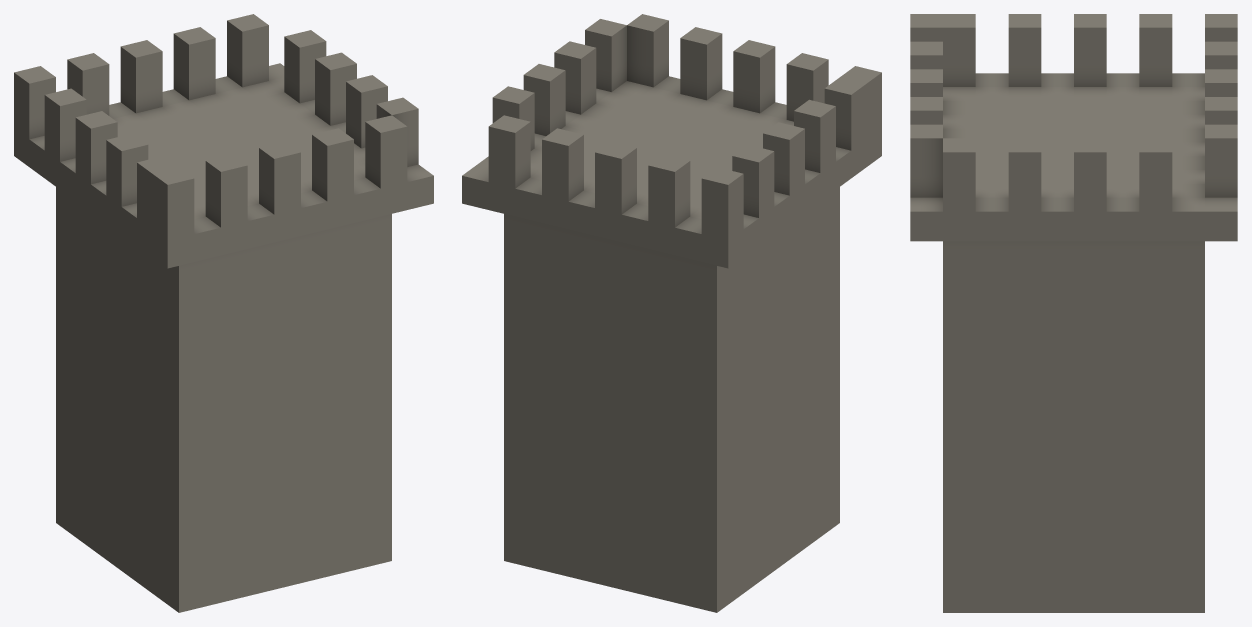
File: c_tower2.glb
3 views of the same model, side by side, from view 1: azimuth 30°, elevation 25°; view 2: azimuth 150°, elevation 25°; view 3: azimuth 270°, elevation 25° (orthographic). The views are drawn at different scales.
Parts seen in each view (by area): view 1: c_tower2_body; view 2: c_tower2_body; view 3: c_tower2_body.
Part boxes in pixels (left/top/right/bottom): c_tower2_body: left=14, top=14, right=433, bottom=612; c_tower2_body: left=462, top=14, right=881, bottom=612; c_tower2_body: left=910, top=14, right=1237, bottom=612.
Size of the model in its own units: 0.625 by 1 by 0.625.
Materials: 1 (1 with a texture image).
